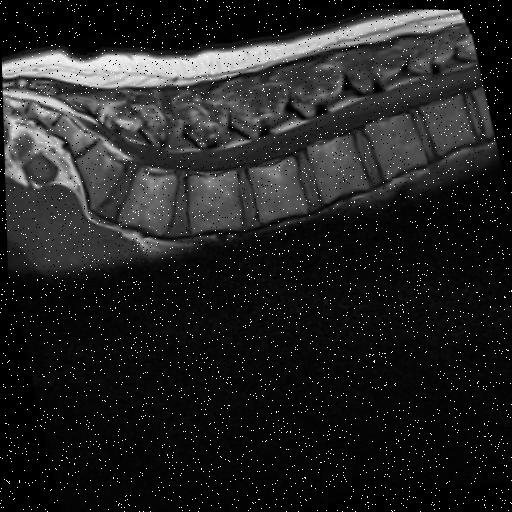L1: (364, 112, 425, 178)
L2: (305, 134, 368, 202)
L3: (247, 158, 305, 221)
L4: (185, 170, 236, 233)
L5: (115, 169, 173, 235)
S1: (74, 142, 122, 209)
